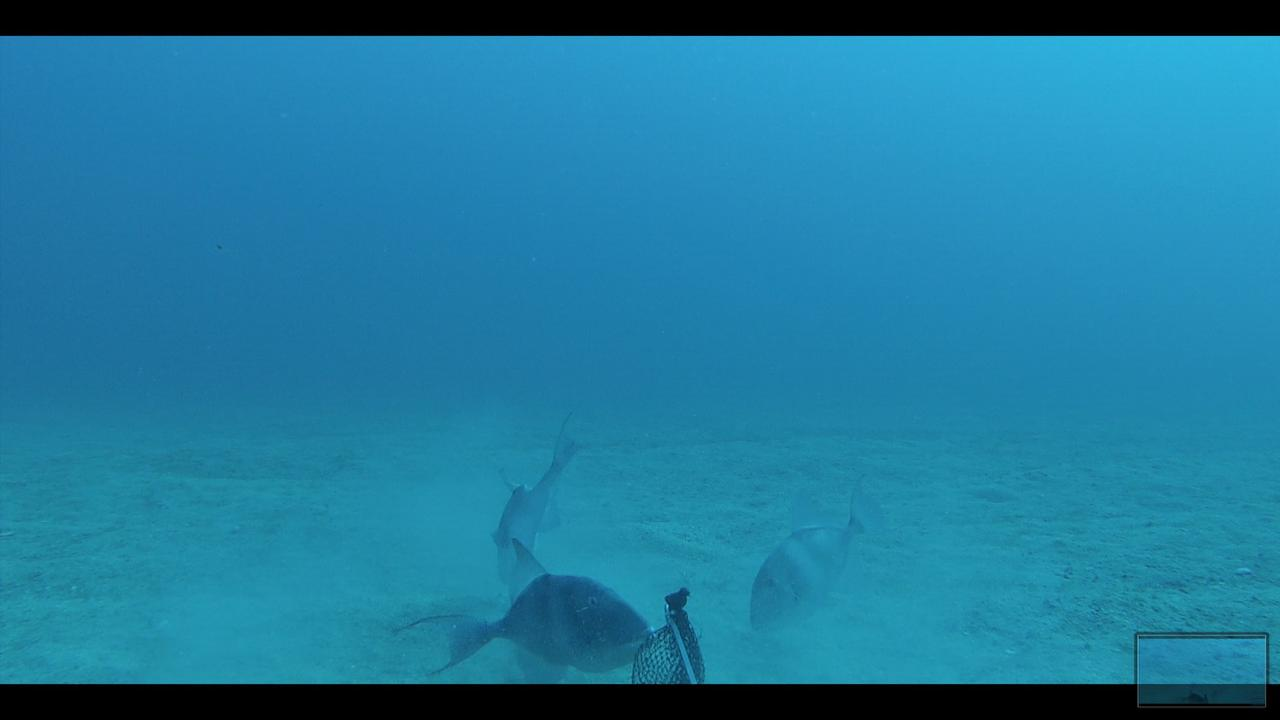balistes: (403, 538, 653, 680), (745, 469, 896, 629), (488, 405, 587, 580)
